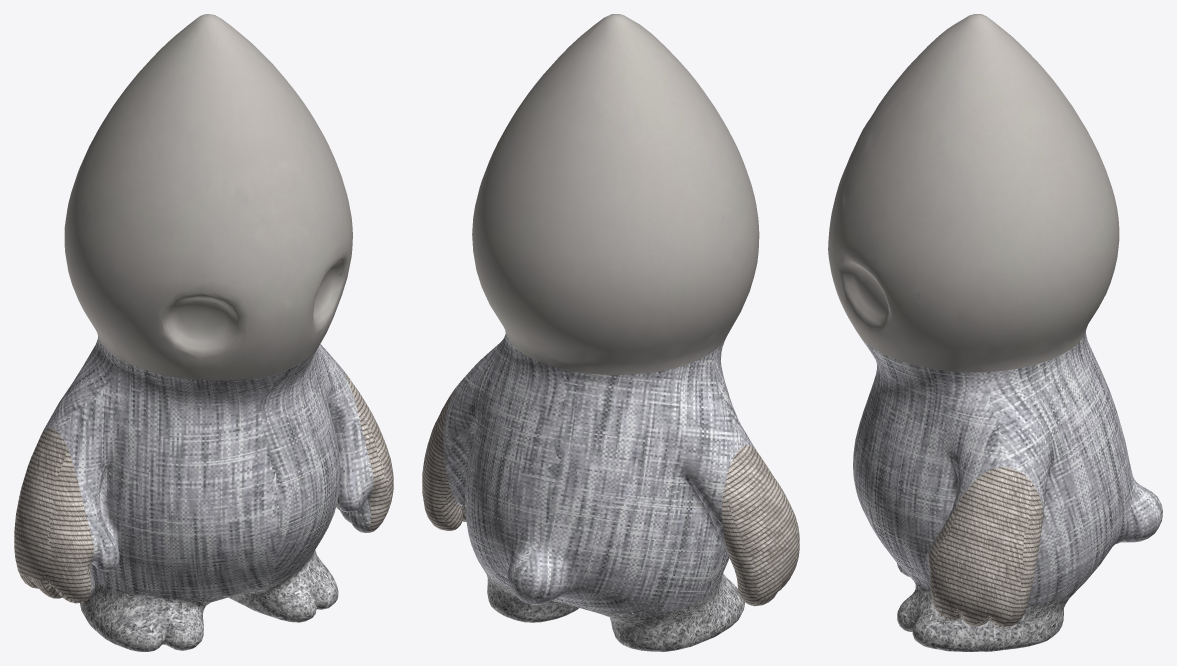
The model's file is 01-seed-pearo--cute_alien_figure_3d_model.glb.
3 renders of one model, left to right at view 1: azimuth 30°, elevation 25°; view 2: azimuth 150°, elevation 25°; view 3: azimuth 270°, elevation 25°, orthographic.
Parts seen in each view (by area): view 1: head_mesh, body_mesh, arms_mesh, feet_mesh; view 2: head_mesh, body_mesh, arms_mesh, feet_mesh; view 3: head_mesh, body_mesh, arms_mesh, feet_mesh.
Part boxes in pixels (x1,y1,x2,y2): head_mesh: (64,14,352,380); body_mesh: (42,336,373,599); arms_mesh: (14,369,393,603); feet_mesh: (80,550,338,651); head_mesh: (472,14,759,374); body_mesh: (443,331,756,613); arms_mesh: (422,386,799,606); feet_mesh: (485,572,744,651); head_mesh: (828,14,1119,372); body_mesh: (853,331,1162,604); arms_mesh: (928,467,1043,627); feet_mesh: (897,563,1079,651).
Bounding box in the file's own units: 1.9 × 3 × 1.56.
4 materials, 4 textured.
